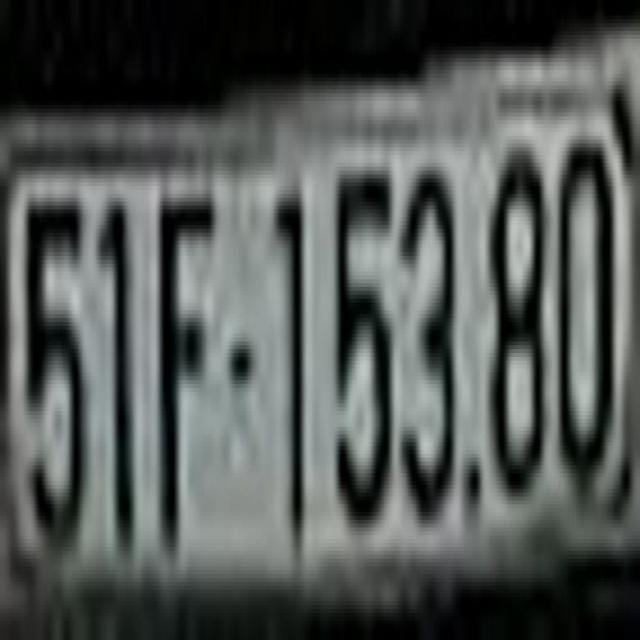0: (558, 120, 617, 493)
1: (98, 182, 137, 547), (278, 163, 310, 539)
3: (398, 143, 455, 516)
5: (329, 143, 396, 520), (24, 170, 86, 570)
8: (495, 116, 549, 508)
F: (156, 160, 217, 554)
